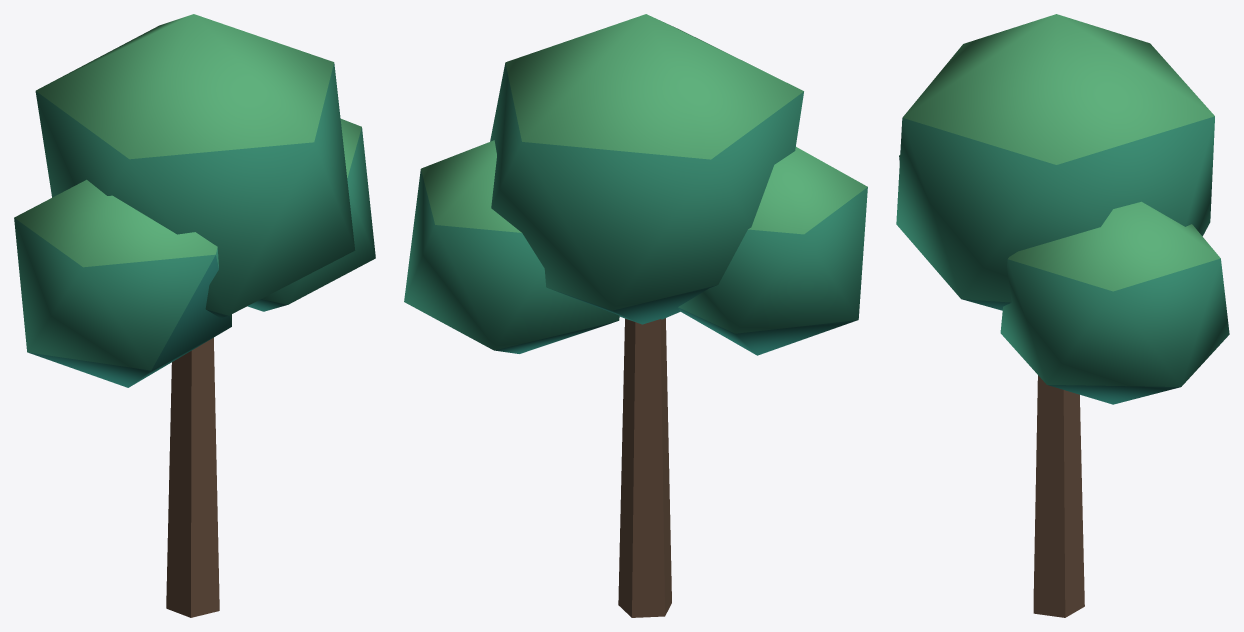
The model's file is sapling.glb.
3 renders of one model, left to right at view 1: azimuth 30°, elevation 25°; view 2: azimuth 150°, elevation 25°; view 3: azimuth 270°, elevation 25°, orthographic.
Visible parts, largest first — view 1: body_nl, body; view 2: body_nl, body; view 3: body_nl, body.
Boxes of the visible parts, x1,y1,x2,y2 form: body_nl: (14,14,375,387); body: (166,337,219,617); body_nl: (404,14,867,355); body: (618,318,671,617); body_nl: (896,14,1229,404); body: (1033,375,1084,617).
Size of the model in its own units: 0.7868 by 1.15 by 0.5882.
